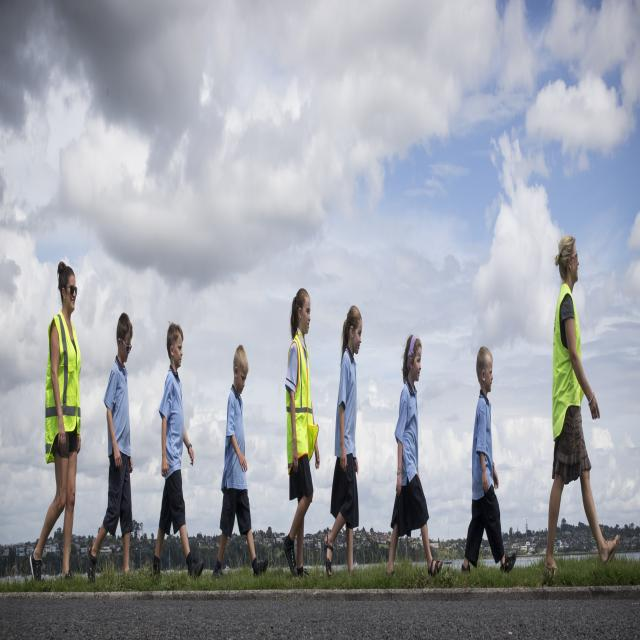Person: (545, 240, 619, 567), (31, 258, 82, 586), (385, 333, 443, 573), (153, 322, 204, 576), (213, 346, 268, 573), (88, 312, 134, 580), (463, 346, 516, 567), (283, 288, 320, 582), (323, 307, 363, 573)
